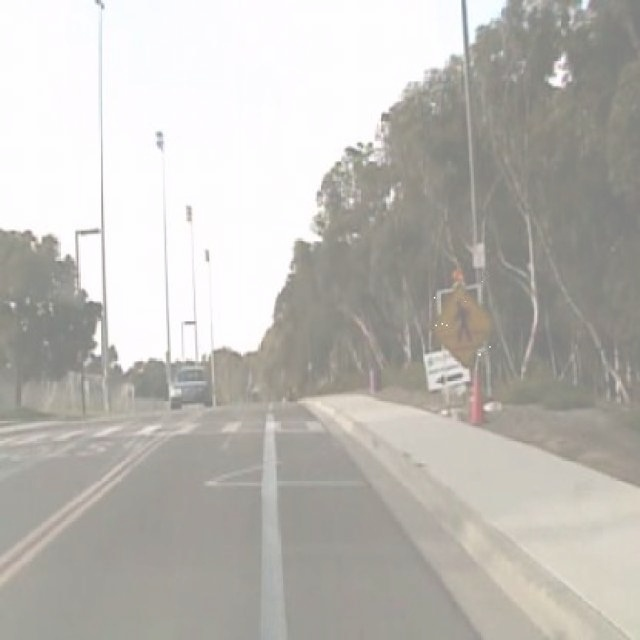pedestrianCrossing: (431, 278, 492, 368)
